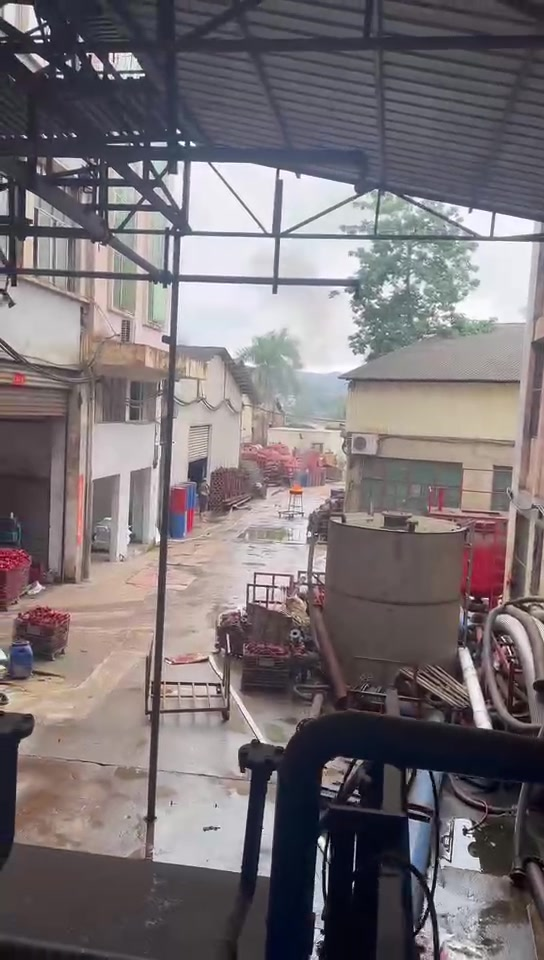fire: (291, 482, 302, 492)
